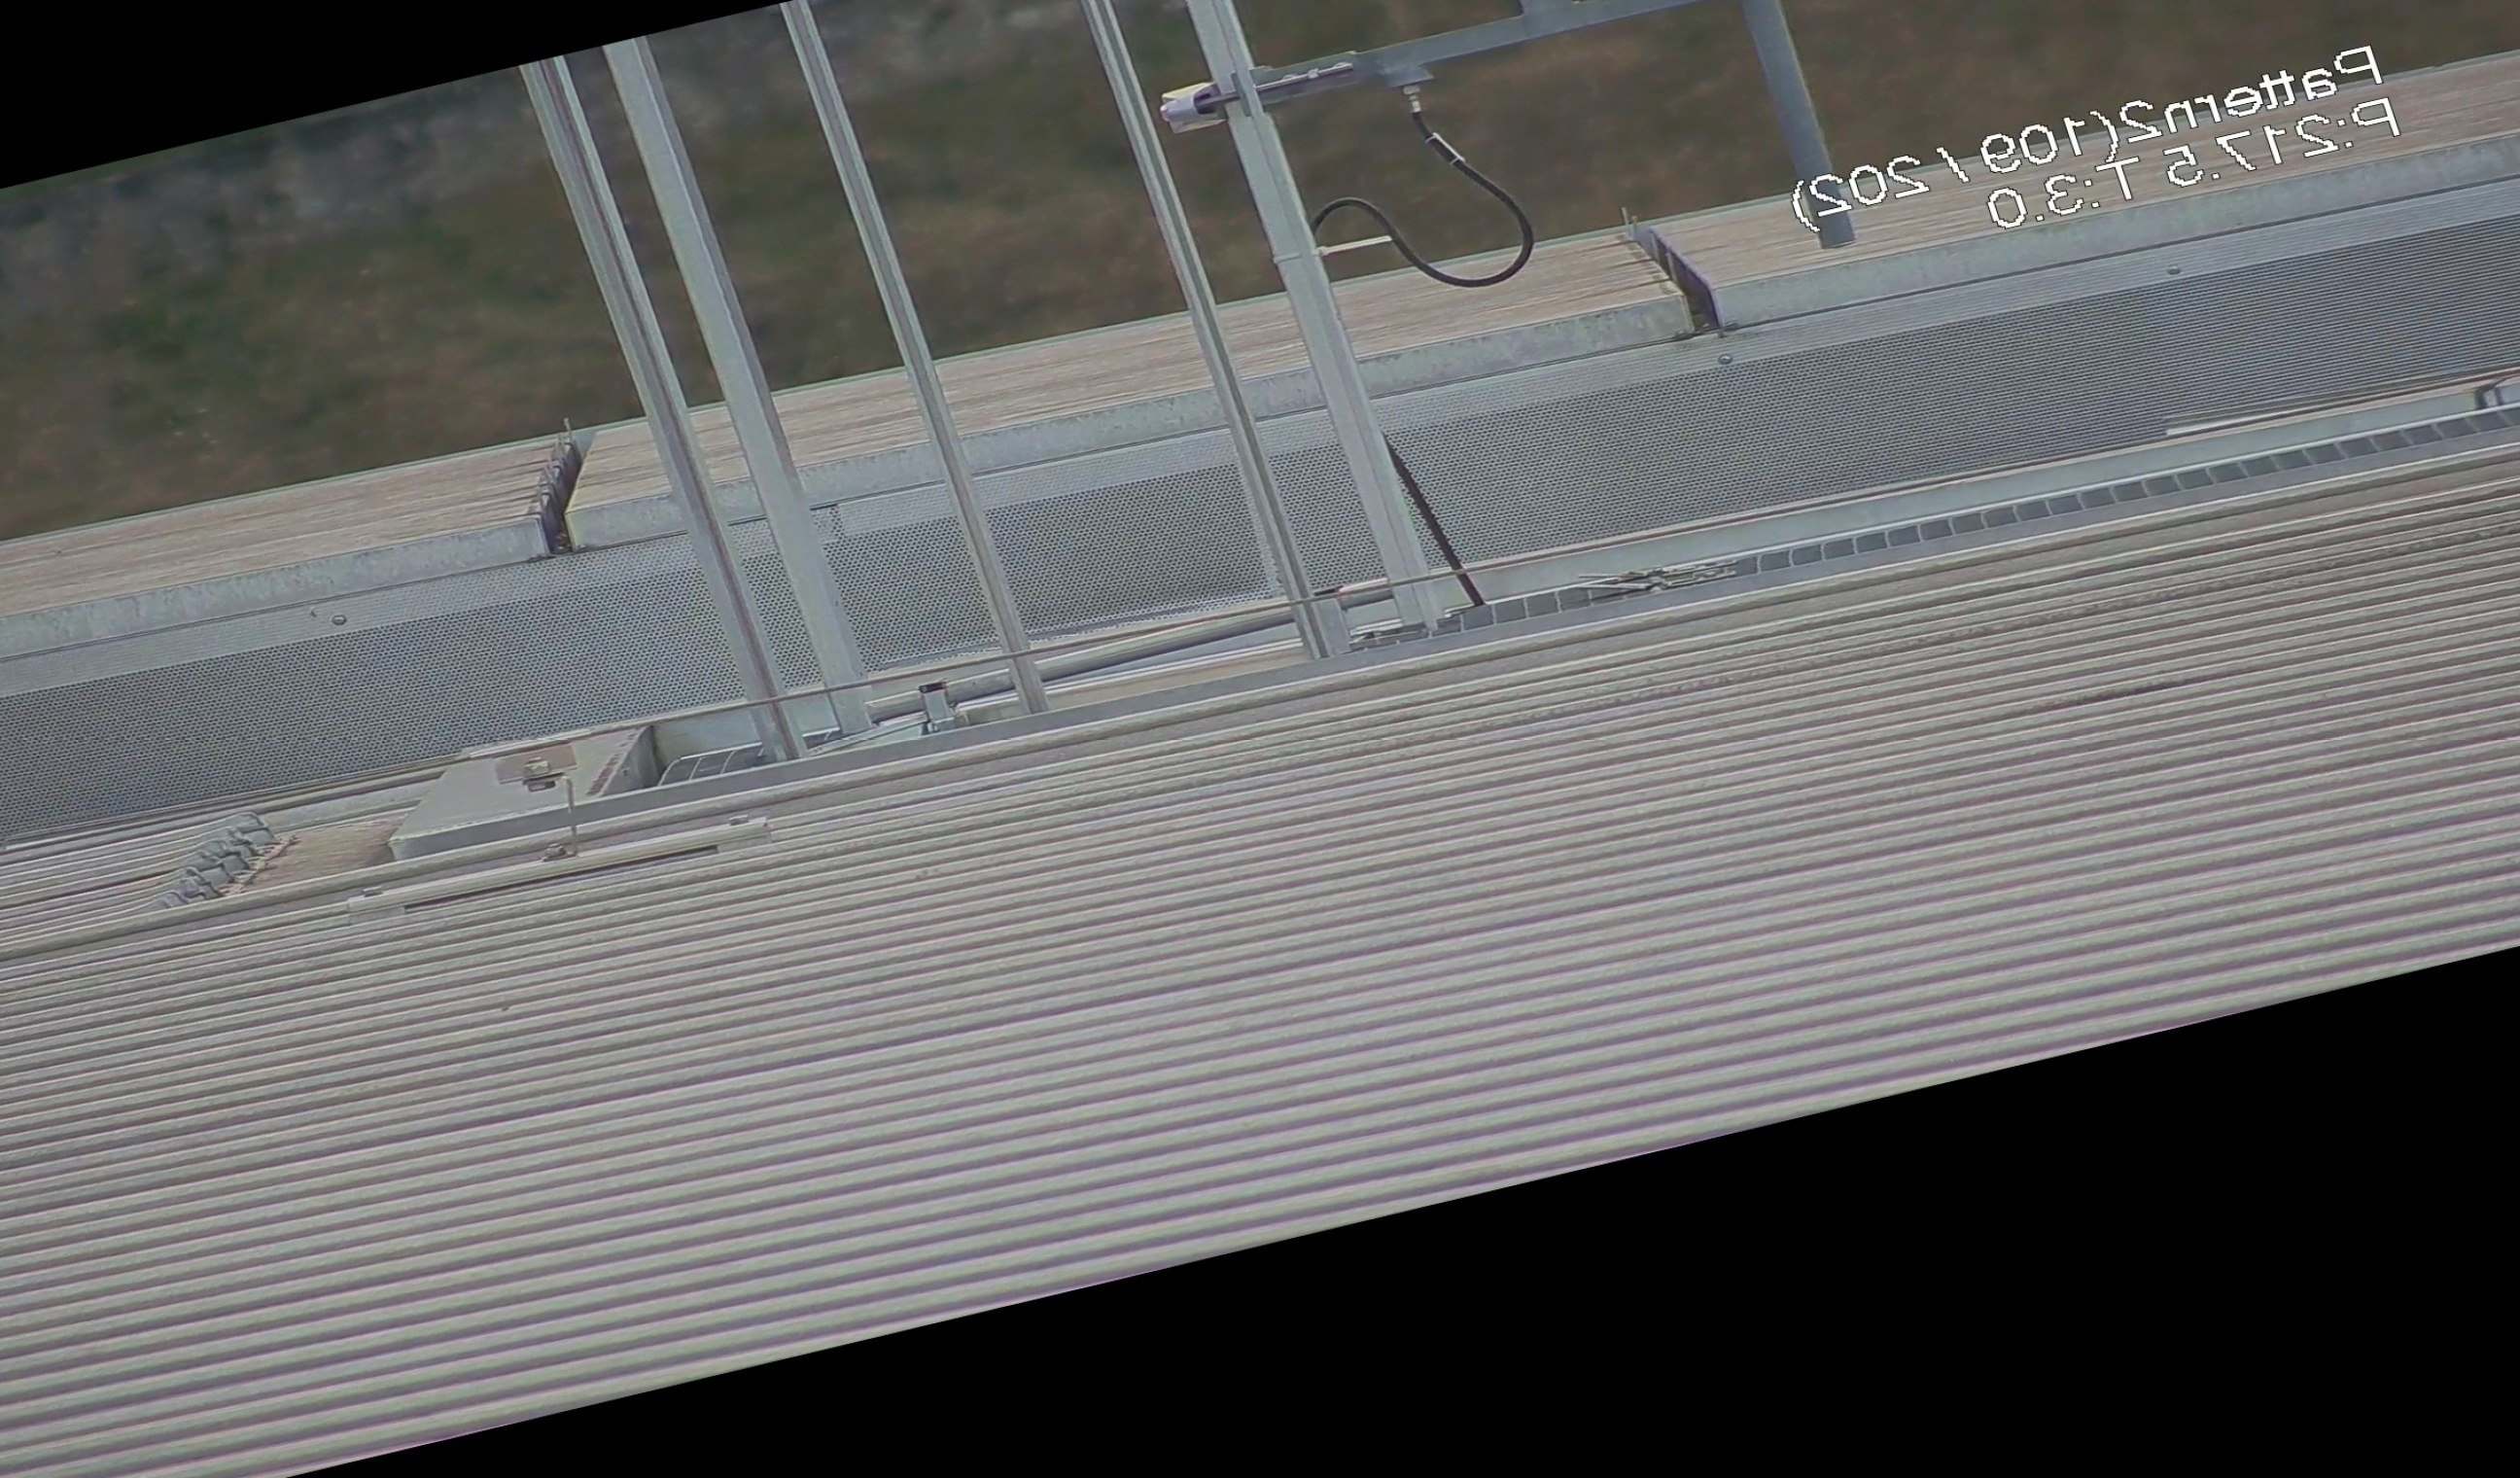Other: (477, 408, 635, 567)
